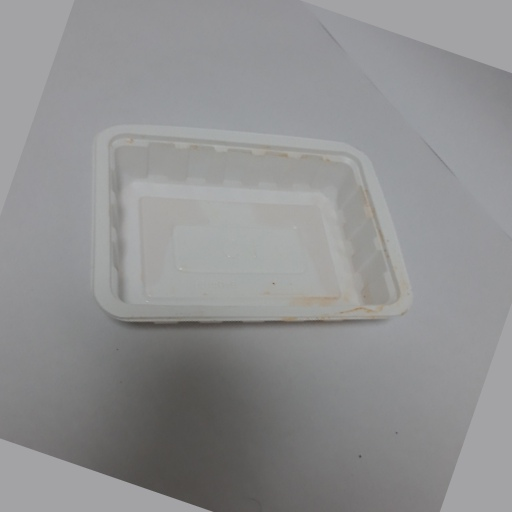Plastic_4: (85, 120, 413, 329)
